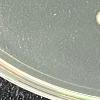white: (92, 8, 100, 28)
